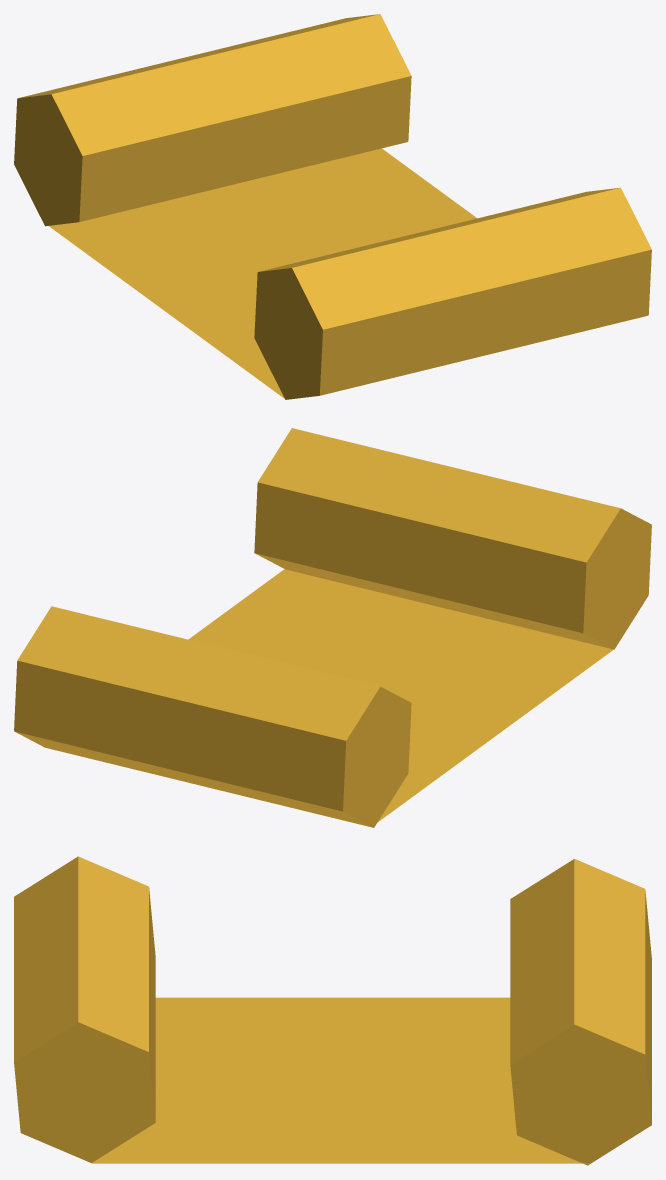
File: scroll_elder.fbx
3 views of the same model, one above another, from view 1: azimuth 30°, elevation 25°; view 2: azimuth 150°, elevation 25°; view 3: azimuth 270°, elevation 25° (orthographic). The views are drawn at different scales.
Visible parts, largest first — view 1: Scroll; view 2: Scroll; view 3: Scroll.
Boxes of the visible parts, x1=… form: Scroll: x1=14, y1=14, x2=651, y2=399; Scroll: x1=14, y1=428, x2=651, y2=827; Scroll: x1=14, y1=856, x2=651, y2=1165.
Size of the model in its own units: 17.81 by 7.17 by 28.88.
